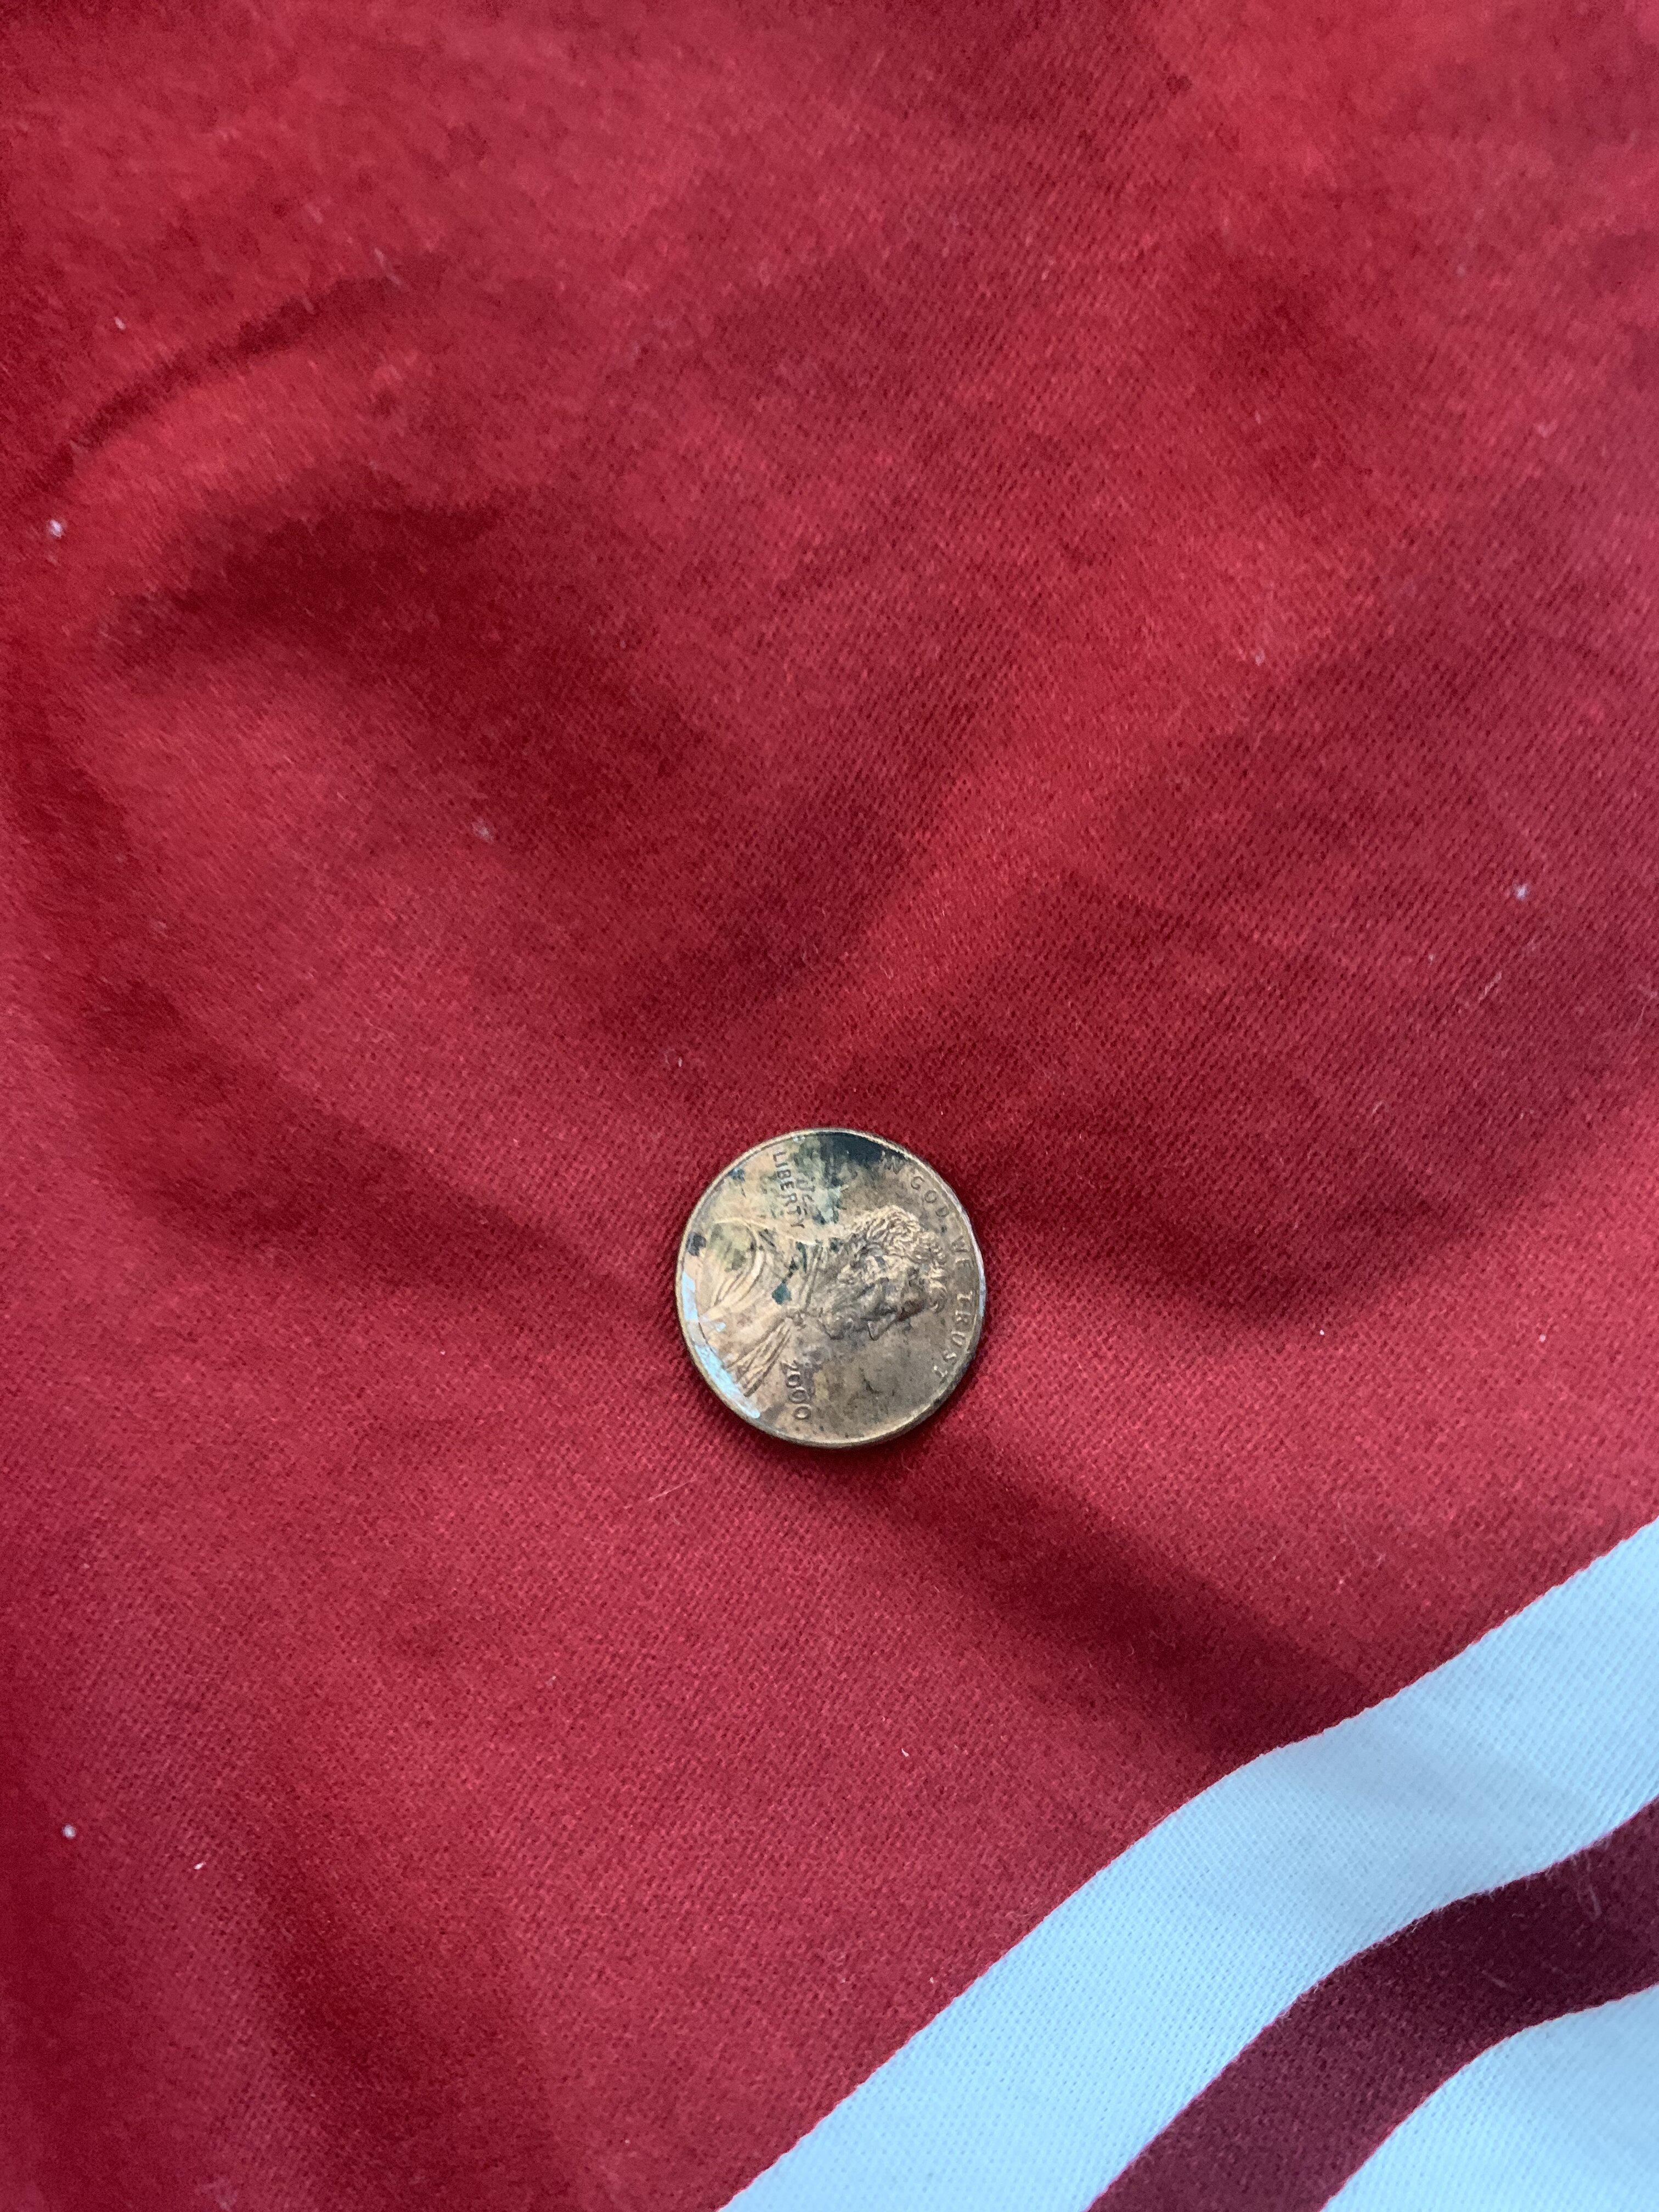Penny: (648, 1082, 1023, 1498)
